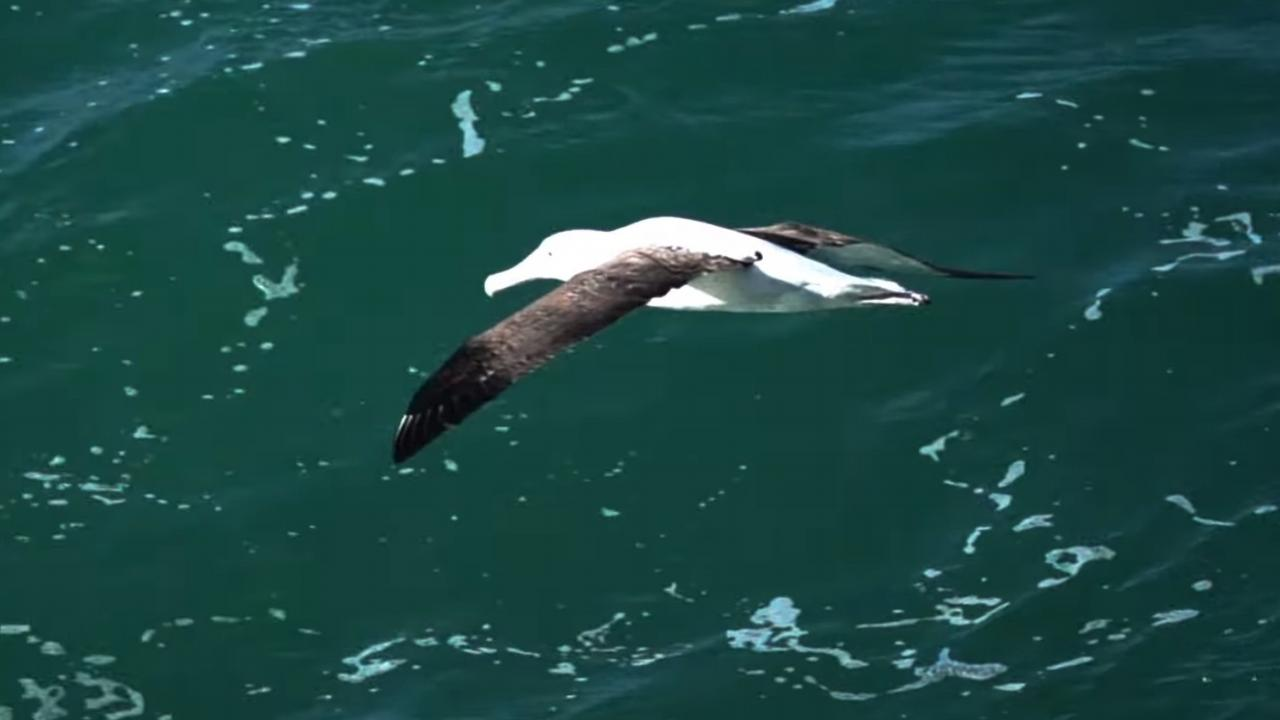Bird: (374, 203, 1052, 486)
